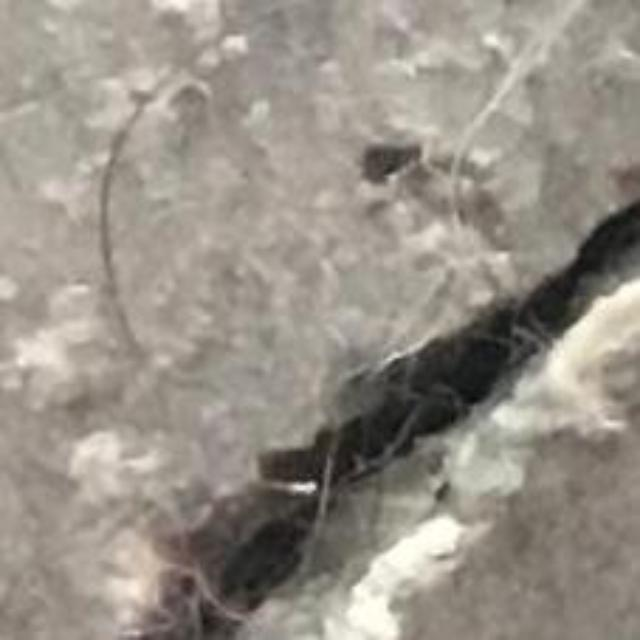crack: (122, 161, 639, 639)
